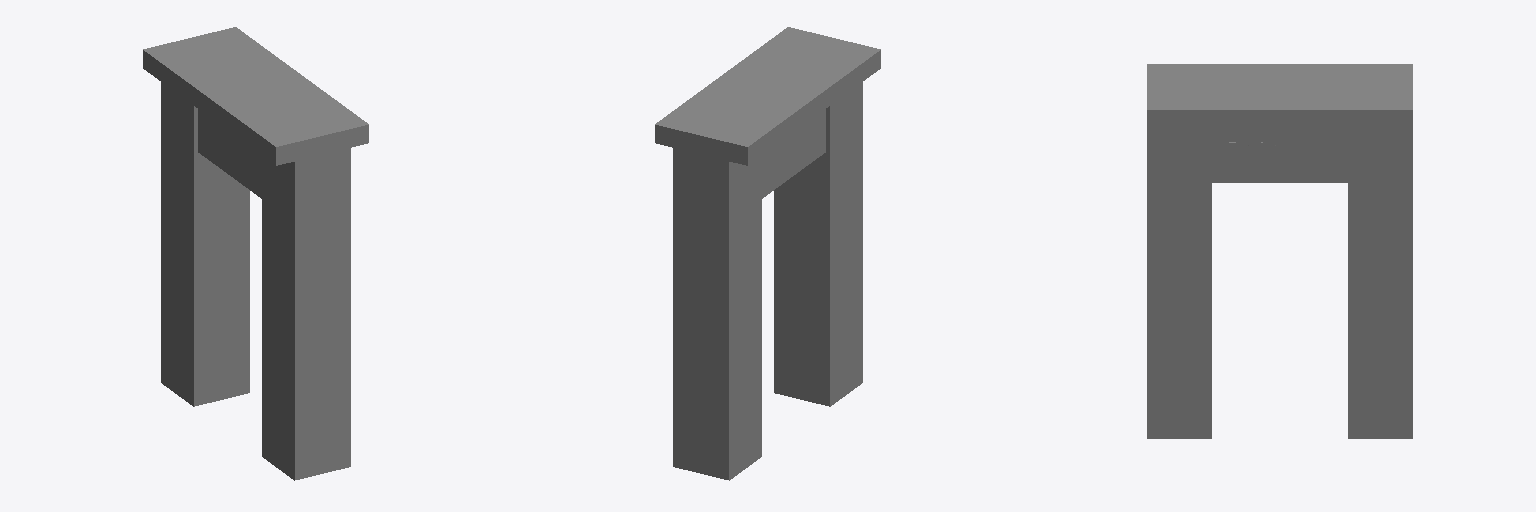
The model's file is English_room_front_doorframe.obj.
3 renders of one model, left to right at view 1: azimuth 30°, elevation 25°; view 2: azimuth 150°, elevation 25°; view 3: azimuth 270°, elevation 25°, orthographic.
Parts seen in each view (by area): view 1: ?????????; view 2: ?????????; view 3: ?????????.
Part boxes in pixels (x1,y1,x2,y2): ?????????: (143, 27, 368, 480); ?????????: (655, 27, 880, 480); ?????????: (1147, 64, 1412, 438).
Size of the model in its own units: 0.997 by 3.46 by 2.48.